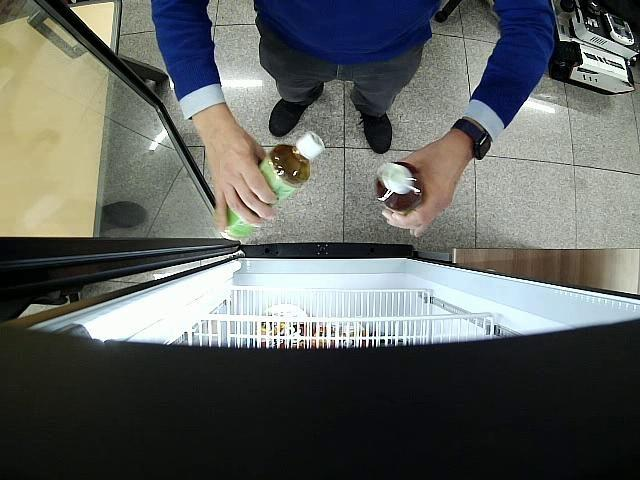19_17cha: (221, 132, 325, 242), (374, 162, 424, 216)
